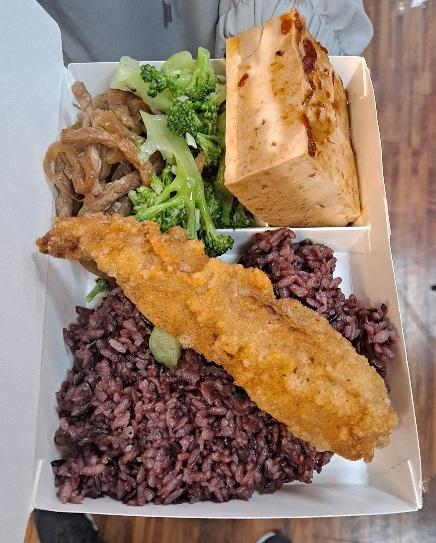big grilled chicken leg: (26, 39, 432, 533)
braised fish: (47, 222, 402, 500)
braised fish fillet: (223, 10, 362, 224), (125, 45, 234, 247), (42, 85, 146, 218)
braised pork: (38, 214, 394, 463)
